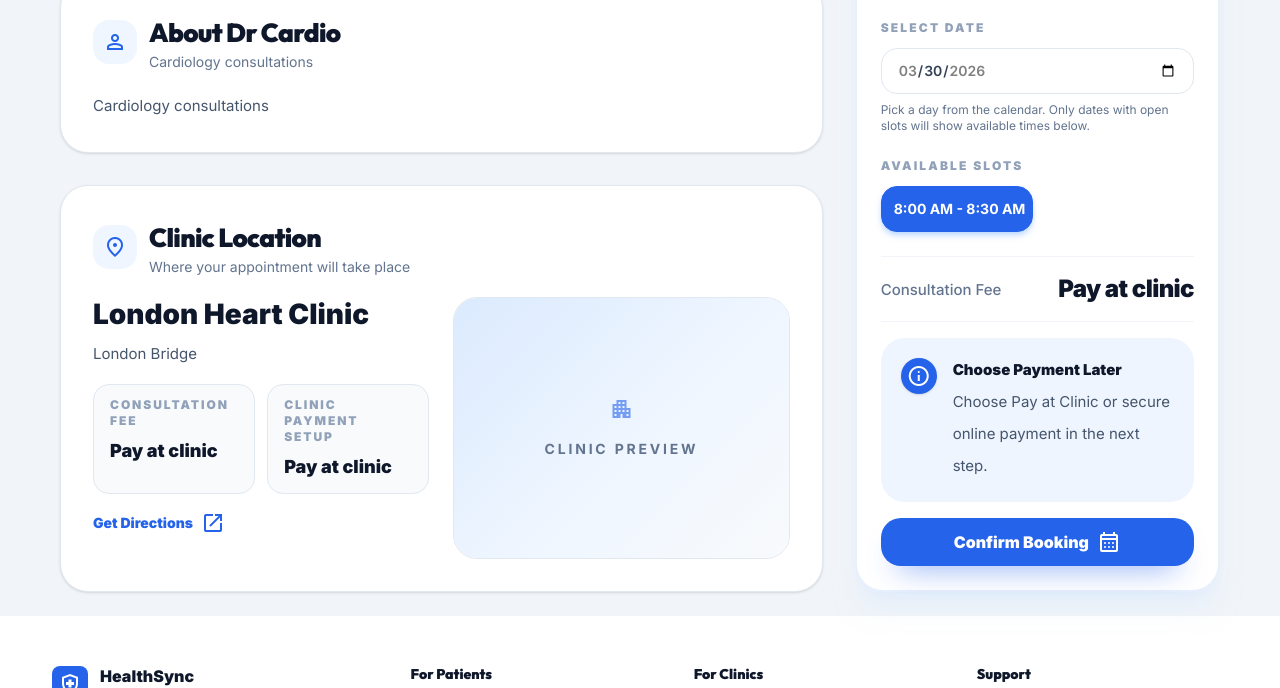
DoctorDetail AI prefill › preselects the AI-recommended slot and prefills reason for visit in the booking modal
The image size is (1280, 688).
(page scrolled)
Expected: the date field showing "2026-03-30" is shown, [881,48,1194,94]
Click the button "Confirm Booking": [1037, 542] box [881,518,1194,566]
(page scrolled)
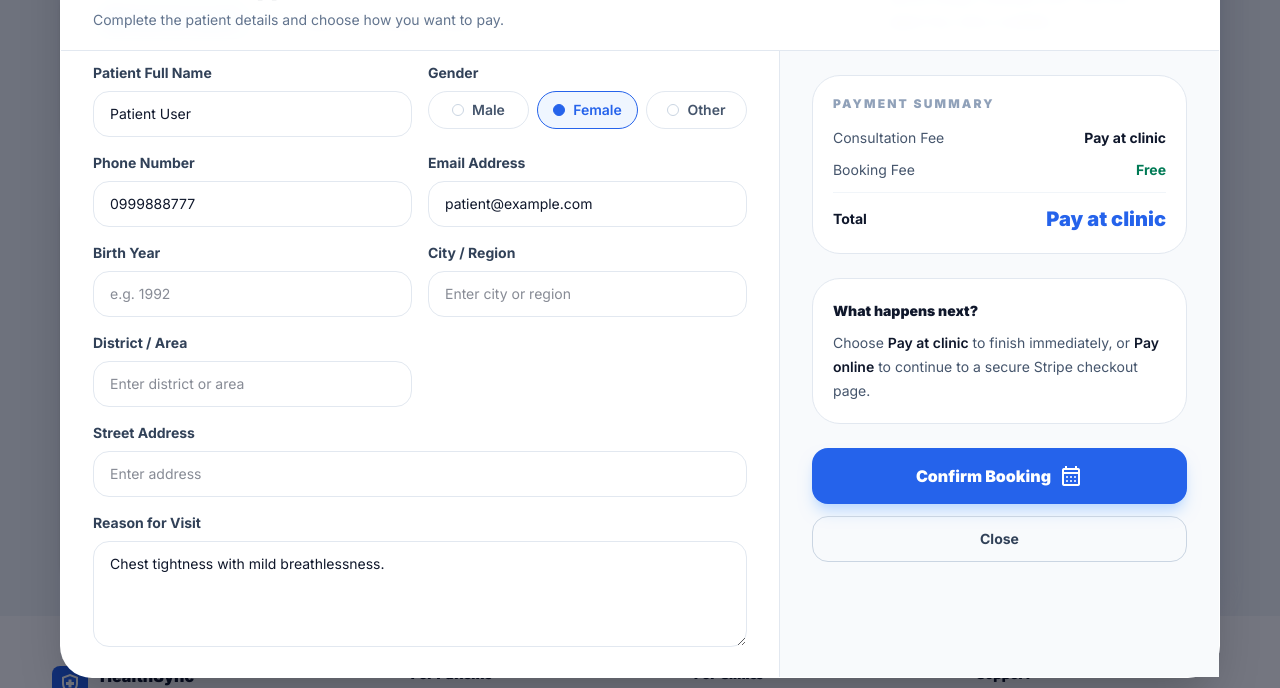
Now the text box showing "Chest tightness with mild breathlessness." is shown, box [93,540,747,646]
